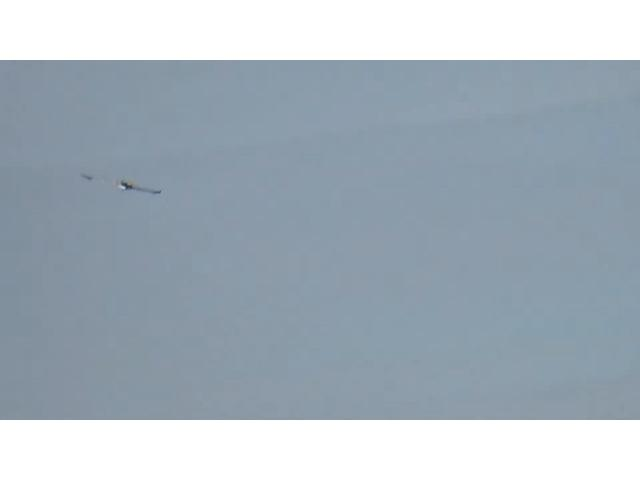Anti-Drone: (72, 172, 162, 196)
